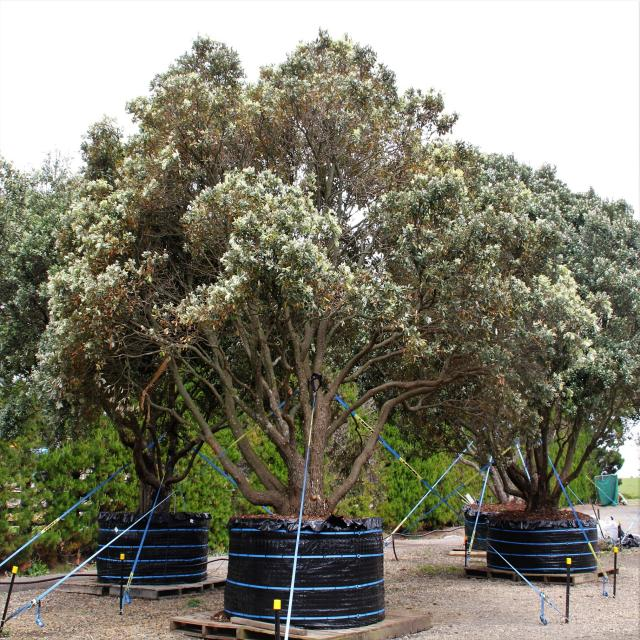Pohutukawa: (37, 69, 640, 531), (157, 166, 603, 527)
